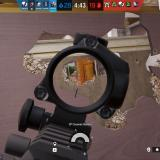Character: (70, 71, 79, 81)
Head: (73, 71, 77, 75)
